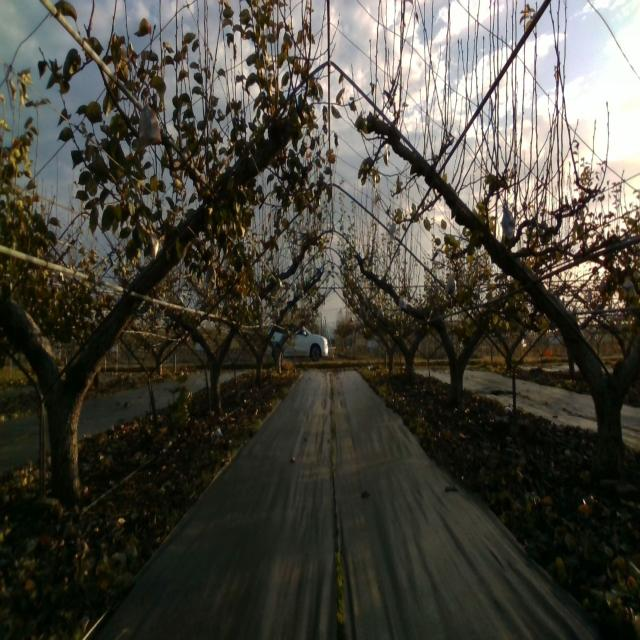pearbags: (135, 95, 162, 151), (501, 201, 515, 240), (147, 230, 159, 260), (445, 273, 457, 298)
